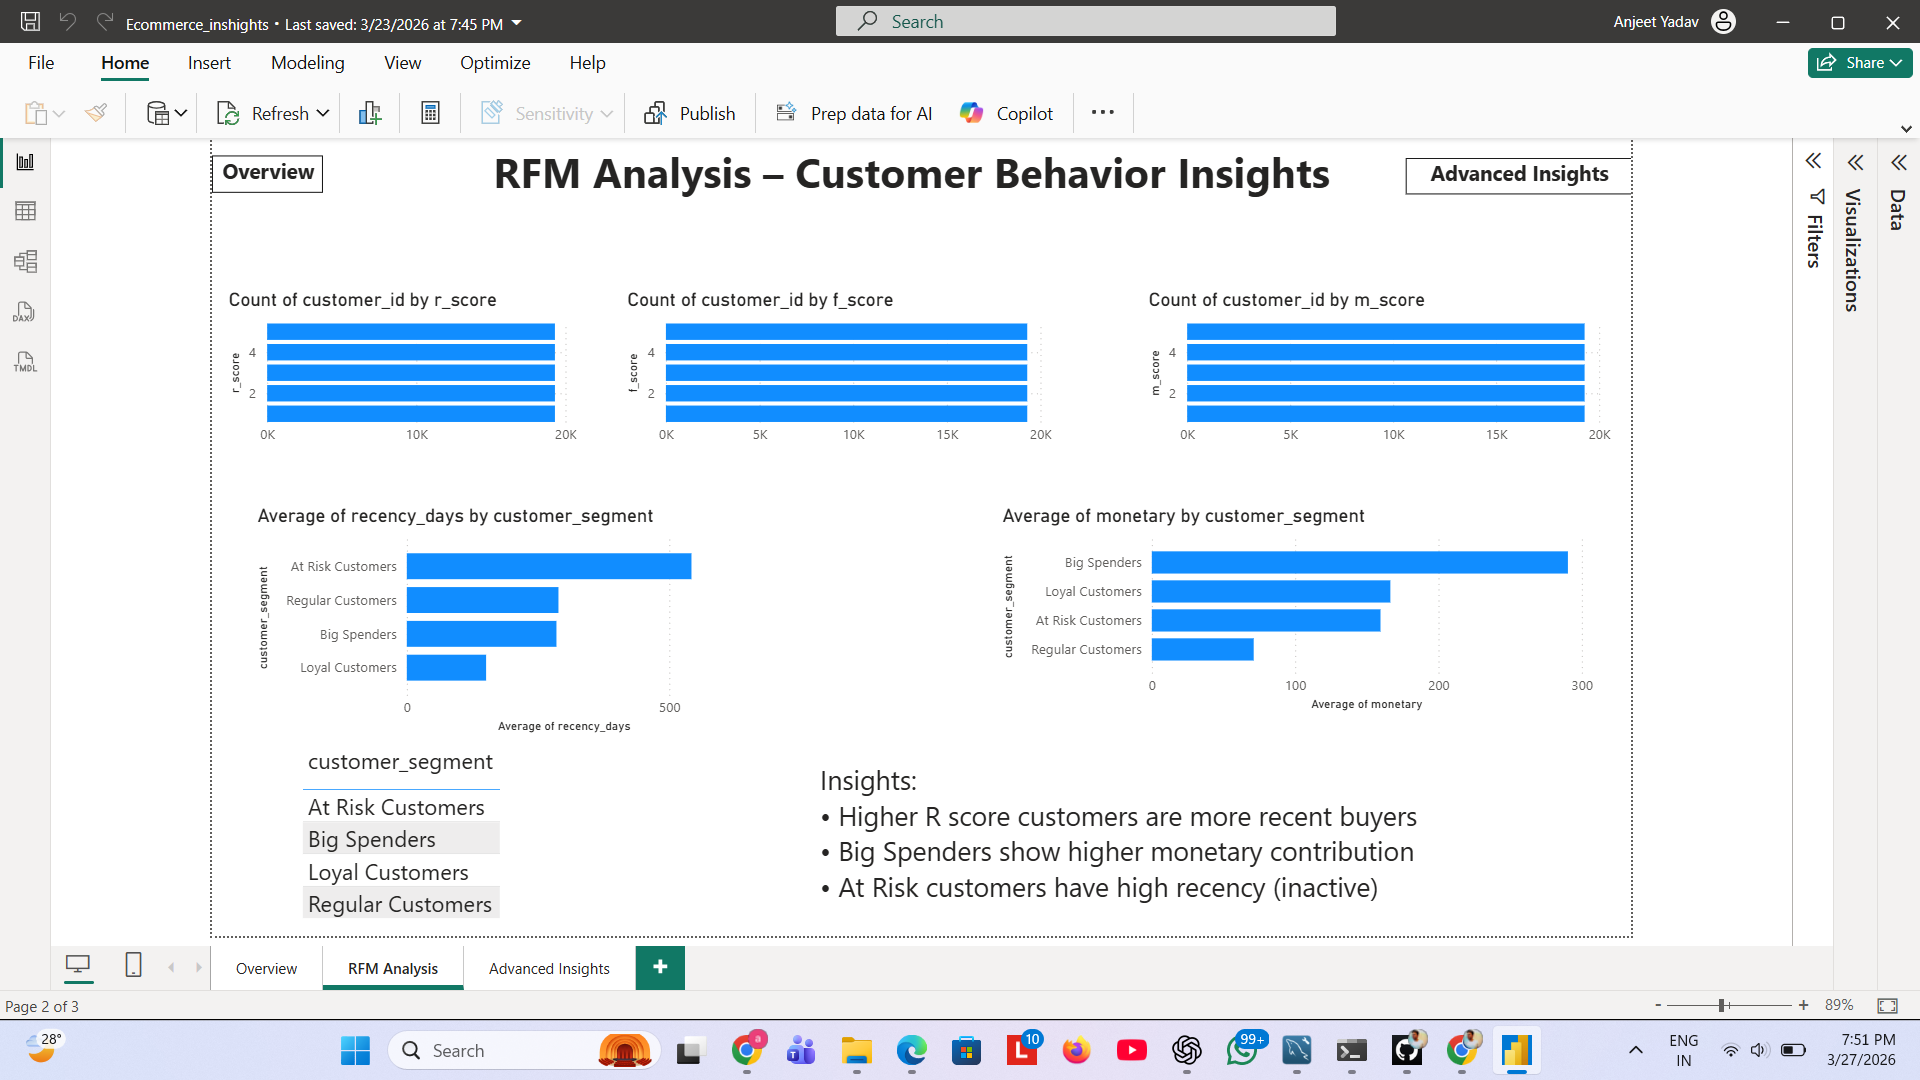

The dashboard page shown, as its layout file describes it:
{"tool":"powerbi","page":{"name":"RFM Analysis","canvas":[1280,720],"ordinal":1},"visuals":[{"type":"tableEx","fields":{"Values":["rfm_customer_segments.customer_segment"]},"box":[75,541.2,267.5,178.8],"z":0},{"type":"textbox","box":[208.8,0,845,67.5],"z":1000},{"type":"barChart","fields":{"Category":["rfm_customer_segments.r_score"],"Y":["Count(rfm_customer_segments.customer_id)"]},"box":[10,135,323.8,150],"z":2000},{"type":"barChart","fields":{"Category":["rfm_customer_segments.f_score"],"Y":["Count(rfm_customer_segments.customer_id)"]},"box":[370,135,392.5,150],"z":3000},{"type":"barChart","fields":{"Category":["rfm_customer_segments.m_score"],"Y":["Count(rfm_customer_segments.customer_id)"]},"box":[840,135,426.2,150],"z":4000},{"type":"barChart","fields":{"Category":["rfm_customer_segments.customer_segment"],"Y":["Avg(rfm_customer_segments.recency_days)"]},"box":[36.2,330,438.8,211.2],"z":5000},{"type":"barChart","fields":{"Category":["rfm_customer_segments.customer_segment"],"Y":["Avg(rfm_customer_segments.monetary)"]},"box":[707.5,330,542.5,191.2],"z":6000},{"type":"textbox","box":[543.8,557.5,692.5,145],"z":7000},{"type":"actionButton","title":"Overview","box":[0,16.2,100,33.8],"z":8000},{"type":"textbox","box":[475,330,233,211],"z":9000},{"type":"actionButton","title":"Advanced Insights","box":[1076.2,17.5,203.8,32.5],"z":10000}]}

Visuals, with their boxes on the page's 1280x720 design canvas (x1, y1, x2, y2). These are canvas units, not pixel positions in the 1920x1080 screenshot, which may show the page scaled, cropped or inside an application window:
tableEx - rfm_customer_segments.customer_segment: region(75, 541, 342, 720)
textbox: region(209, 0, 1054, 68)
barChart - rfm_customer_segments.r_score x Count(rfm_customer_segments.customer_id): region(10, 135, 334, 285)
barChart - rfm_customer_segments.f_score x Count(rfm_customer_segments.customer_id): region(370, 135, 762, 285)
barChart - rfm_customer_segments.m_score x Count(rfm_customer_segments.customer_id): region(840, 135, 1266, 285)
barChart - rfm_customer_segments.customer_segment x Avg(rfm_customer_segments.recency_days): region(36, 330, 475, 541)
barChart - rfm_customer_segments.customer_segment x Avg(rfm_customer_segments.monetary): region(708, 330, 1250, 521)
textbox: region(544, 558, 1236, 702)
"Overview" actionButton: region(0, 16, 100, 50)
textbox: region(475, 330, 708, 541)
"Advanced Insights" actionButton: region(1076, 18, 1280, 50)
